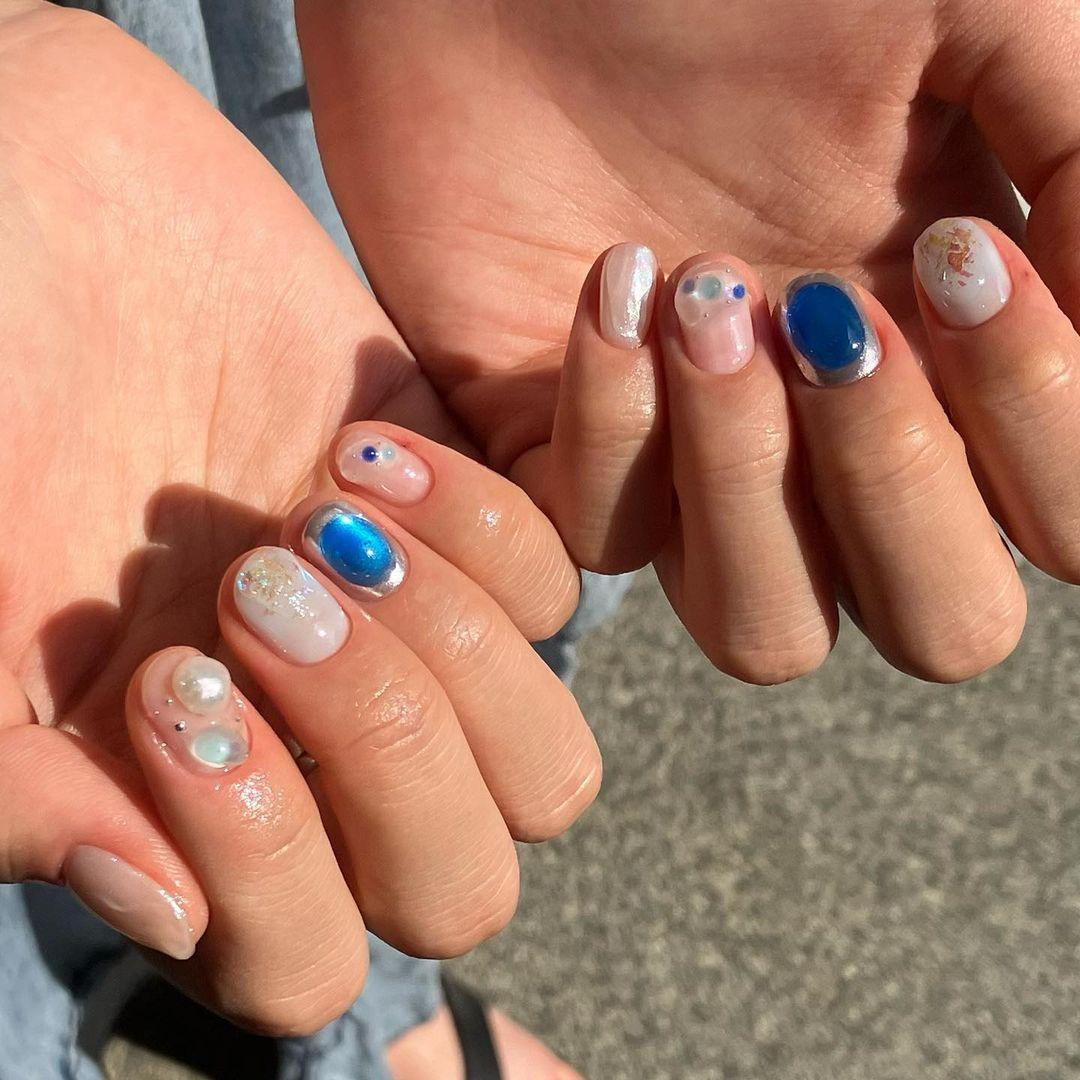nail: (62, 841, 197, 961), (226, 544, 350, 666), (136, 645, 251, 775), (776, 270, 882, 388), (911, 214, 1012, 329), (299, 499, 407, 599), (671, 263, 755, 375), (332, 429, 435, 507), (597, 240, 658, 349)
